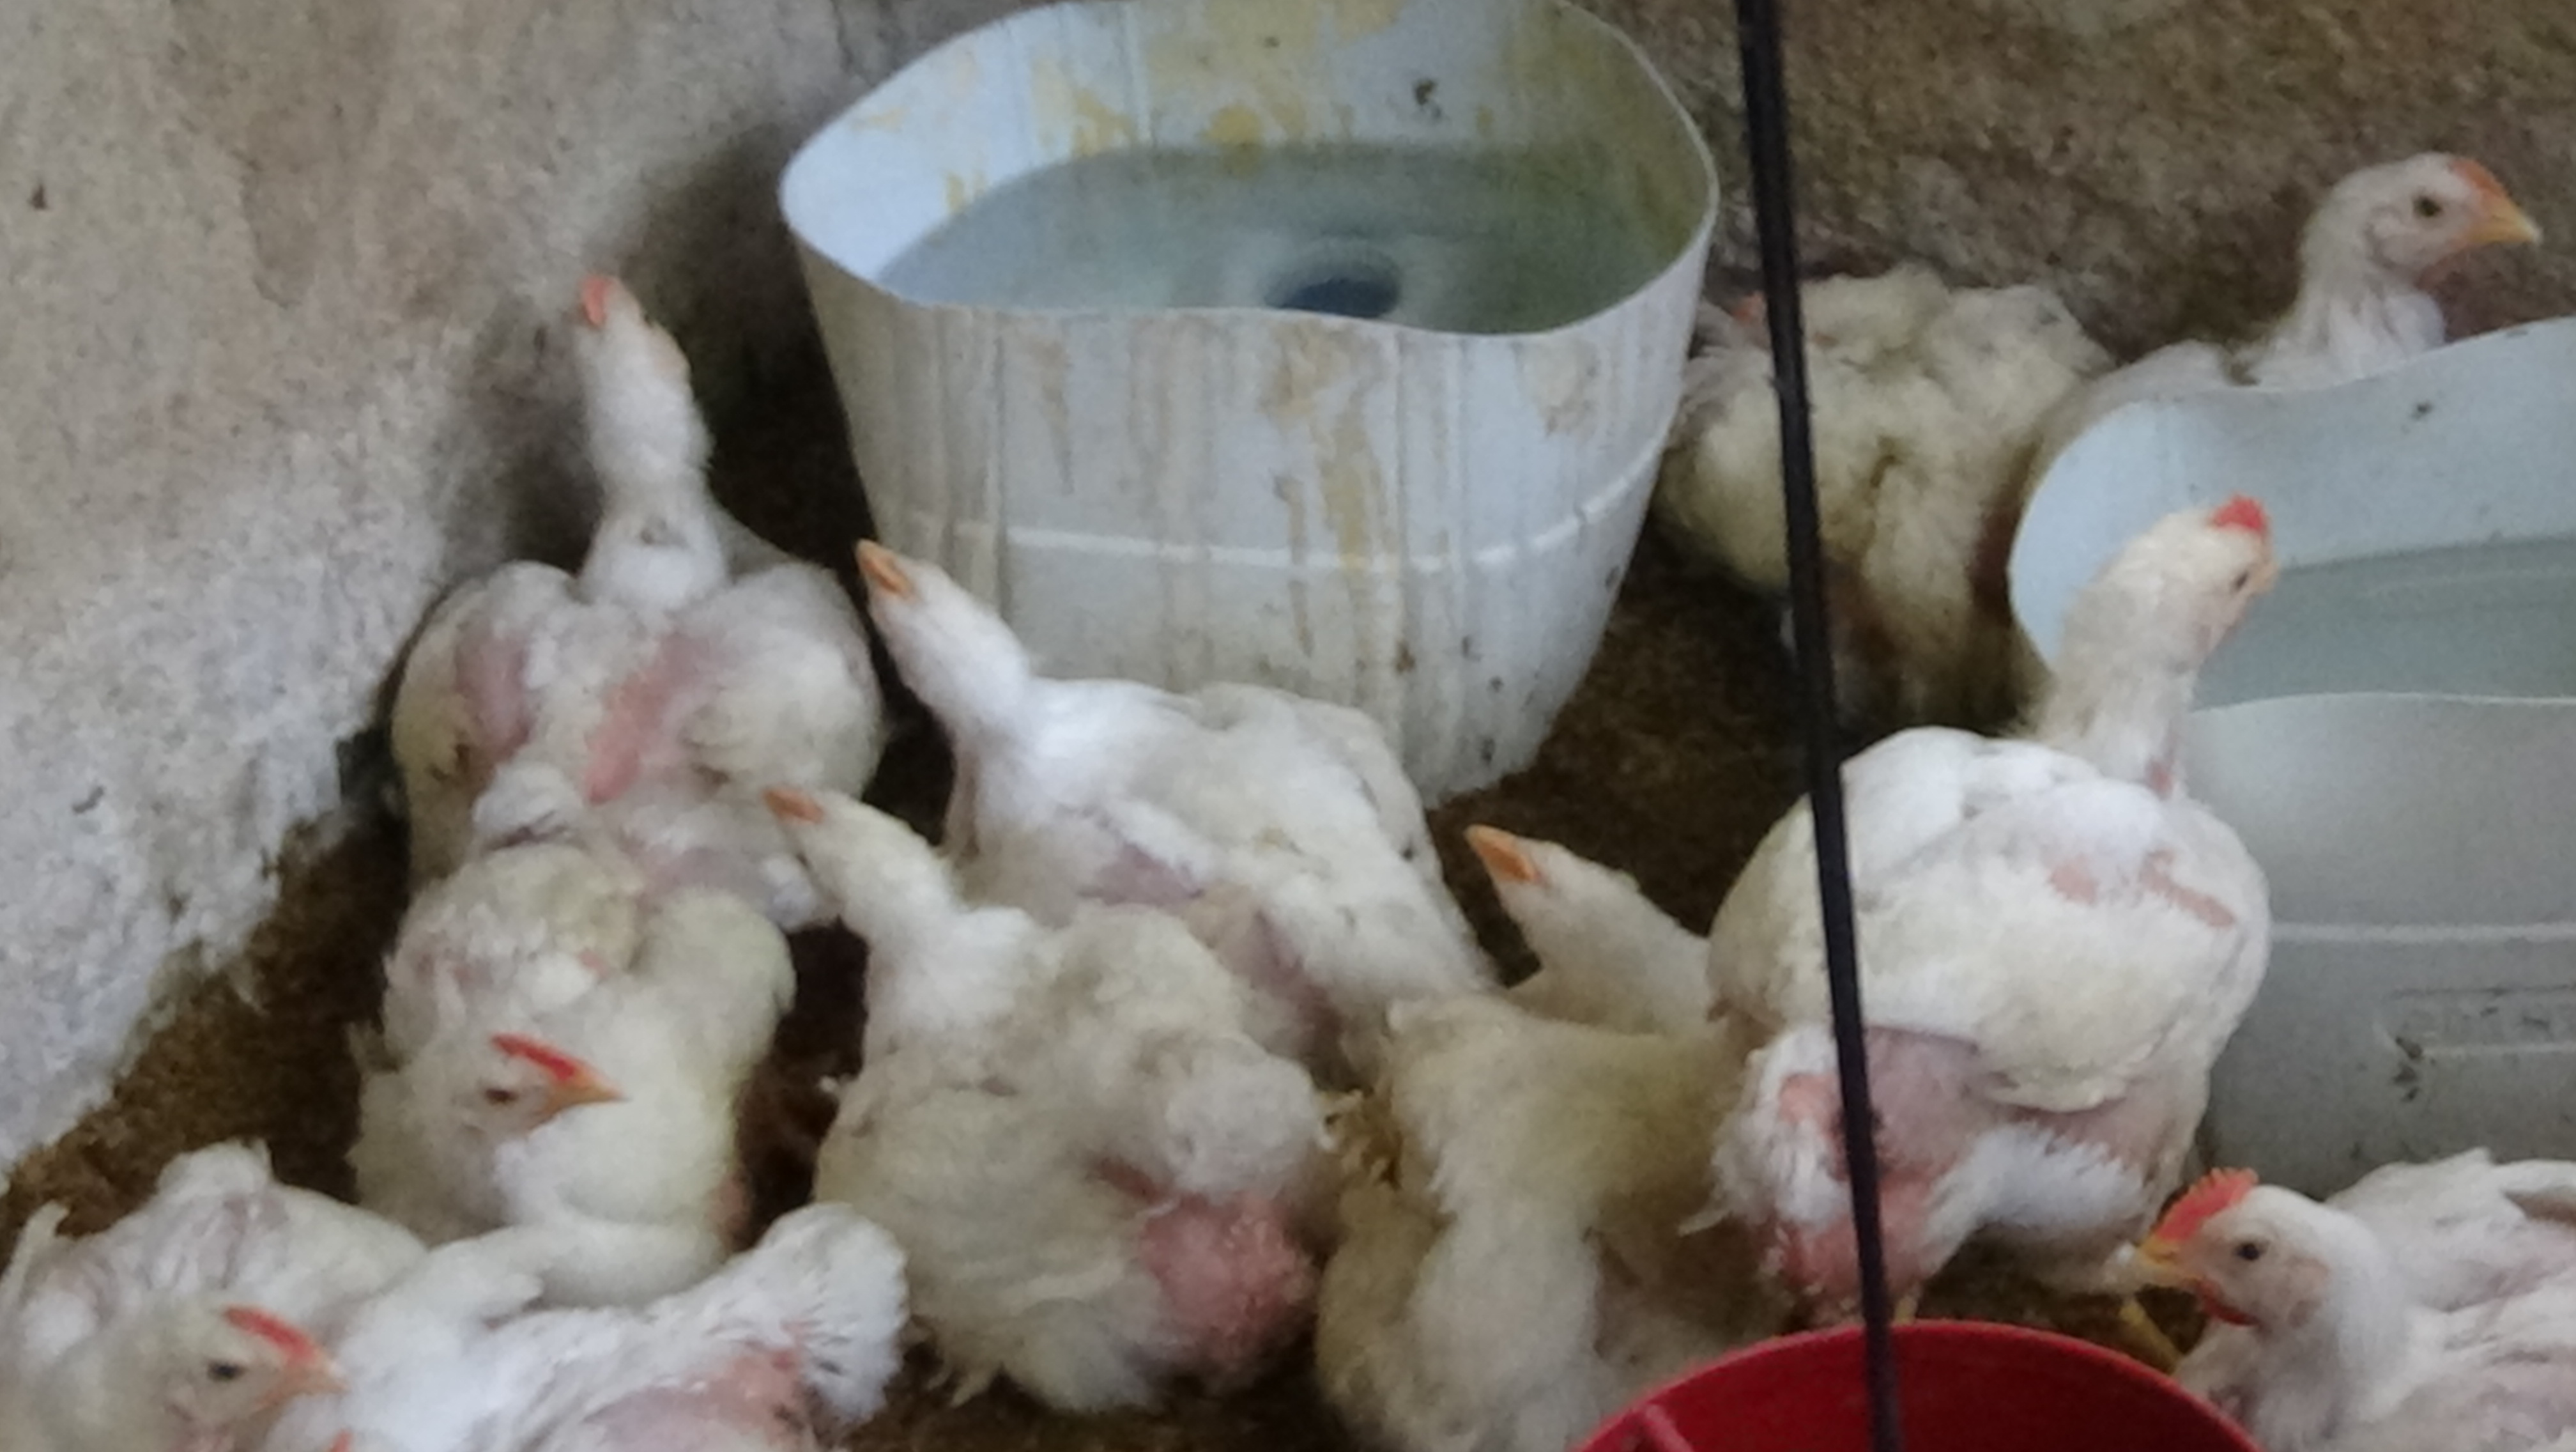Pollos: (1702, 487, 2390, 1137), (729, 745, 1348, 1376), (377, 259, 839, 832), (814, 498, 1414, 882), (1656, 216, 2143, 600), (2112, 1094, 2576, 1441), (2265, 96, 2560, 418), (1460, 756, 1683, 995), (64, 1289, 357, 1452), (322, 1031, 616, 1190)
